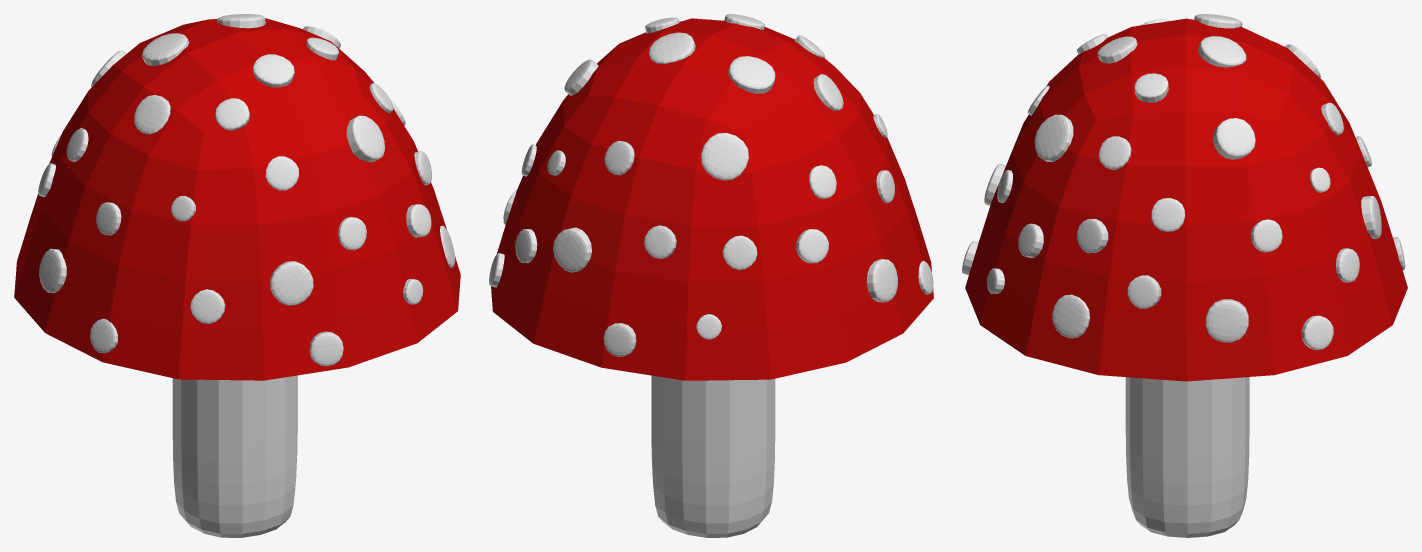
The model's file is mushroom.fbx.
The picture shows the model from 3 angles, left to right: view 1: azimuth 30°, elevation 25°; view 2: azimuth 150°, elevation 25°; view 3: azimuth 270°, elevation 25°; orthographic projection.
Parts seen in each view (by area): view 1: Cube.001, Cube, Cube.016, Cube.021, Cube.035, Cube.027, Cube.038, Cube.023, Cube.022, Cube.029, Cube.018, Cube.039 (+6 smaller); view 2: Cube.001, Cube, Cube.007, Cube.038, Cube.002, Cube.023, Cube.036, Cube.030, Cube.006, Cube.008, Cube.003, Cube.004 (+5 smaller); view 3: Cube.001, Cube, Cube.009, Cube.021, Cube.014, Cube.032, Cube.036, Cube.011, Cube.033, Cube.015, Cube.020, Cube.034 (+6 smaller).
Boxes of the visible parts, <box> form: Cube.001: <box>14,18,460,380</box>; Cube: <box>172,375,297,537</box>; Cube.016: <box>270,261,313,305</box>; Cube.021: <box>346,115,384,162</box>; Cube.035: <box>253,54,294,87</box>; Cube.027: <box>134,95,170,134</box>; Cube.038: <box>142,33,189,65</box>; Cube.023: <box>39,248,66,293</box>; Cube.022: <box>309,331,343,366</box>; Cube.029: <box>190,289,225,324</box>; Cube.018: <box>265,156,298,190</box>; Cube.039: <box>215,98,249,130</box>; Cube.001: <box>491,18,933,380</box>; Cube: <box>651,375,775,537</box>; Cube.007: <box>701,132,748,180</box>; Cube.038: <box>728,56,775,93</box>; Cube.002: <box>553,227,591,272</box>; Cube.023: <box>866,259,897,302</box>; Cube.036: <box>649,32,695,63</box>; Cube.030: <box>722,235,757,270</box>; Cube.006: <box>796,229,828,263</box>; Cube.008: <box>603,323,636,356</box>; Cube.003: <box>644,225,676,258</box>; Cube.004: <box>604,140,634,175</box>; Cube.001: <box>965,18,1407,381</box>; Cube: <box>1125,377,1249,537</box>; Cube.009: <box>1205,299,1248,342</box>; Cube.021: <box>1034,114,1073,161</box>; Cube.014: <box>1212,118,1255,159</box>; Cube.032: <box>1052,294,1089,338</box>; Cube.036: <box>1198,36,1246,67</box>; Cube.011: <box>1151,198,1184,231</box>; Cube.033: <box>1127,275,1161,308</box>; Cube.015: <box>1301,315,1333,350</box>; Cube.020: <box>1077,219,1108,253</box>; Cube.034: <box>1098,136,1131,169</box>.
Bounding box in the file's own units: 131 × 160 × 132.
